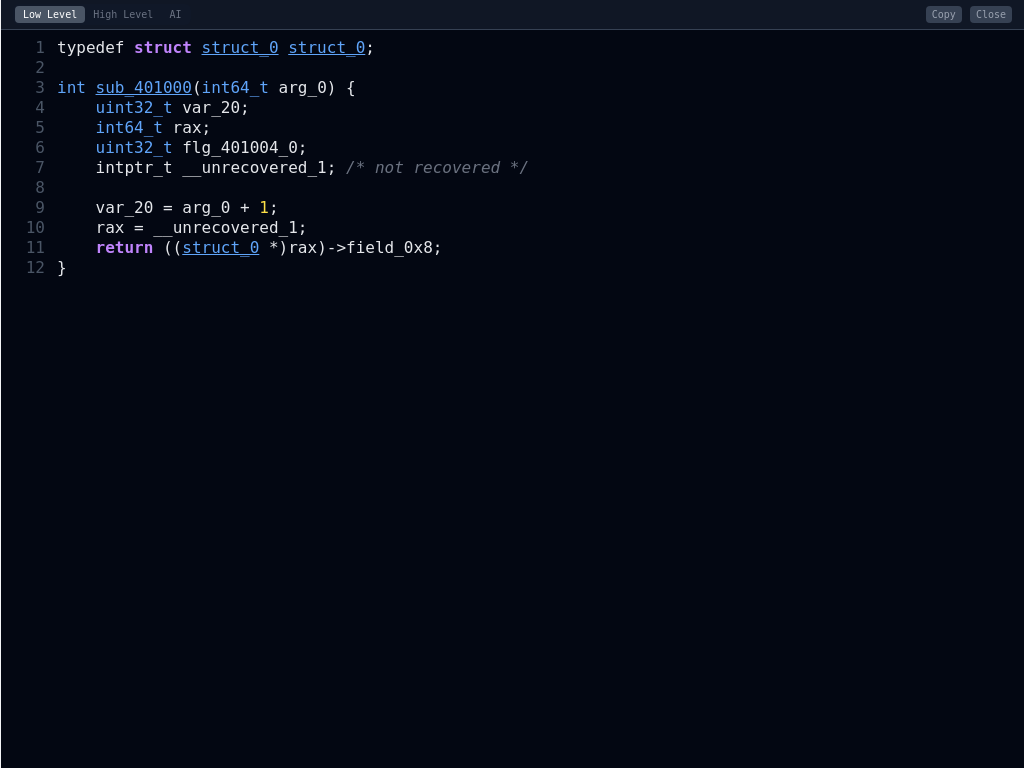
Test case: DecompileView variable rename — what the menu offers › offers it for a parameter too
Right-click the 2nd text "arg_0": (206, 208) [182,198,230,217]
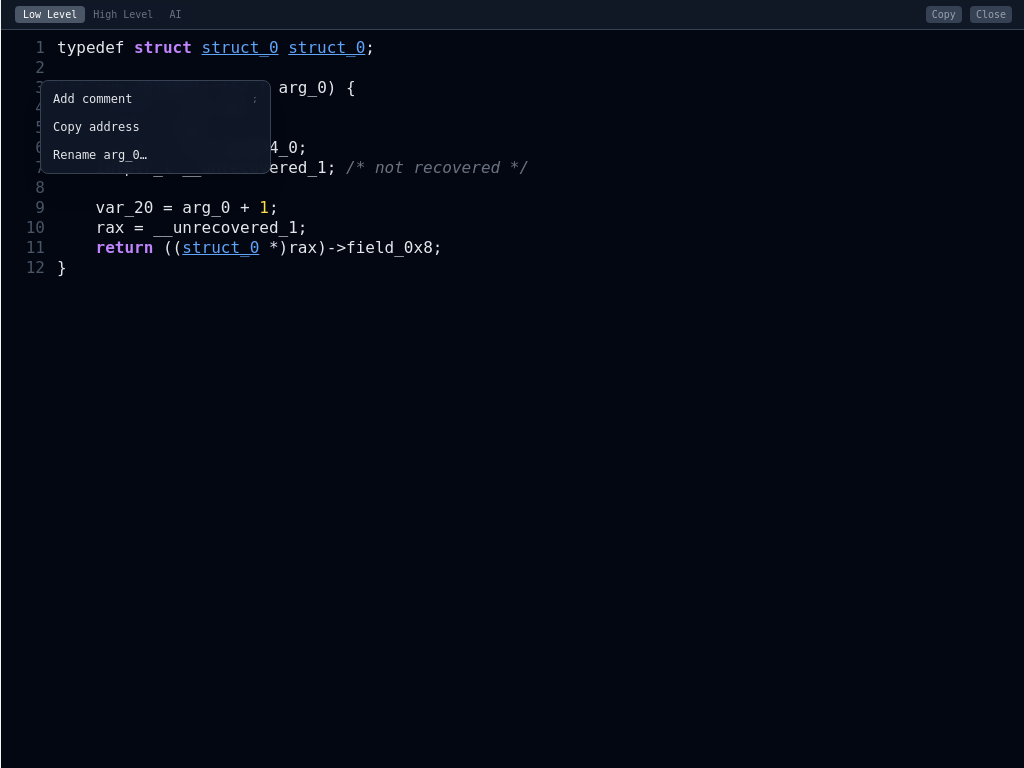
Expected: the button "Rename arg_0…" is shown, [41,141,270,169]
